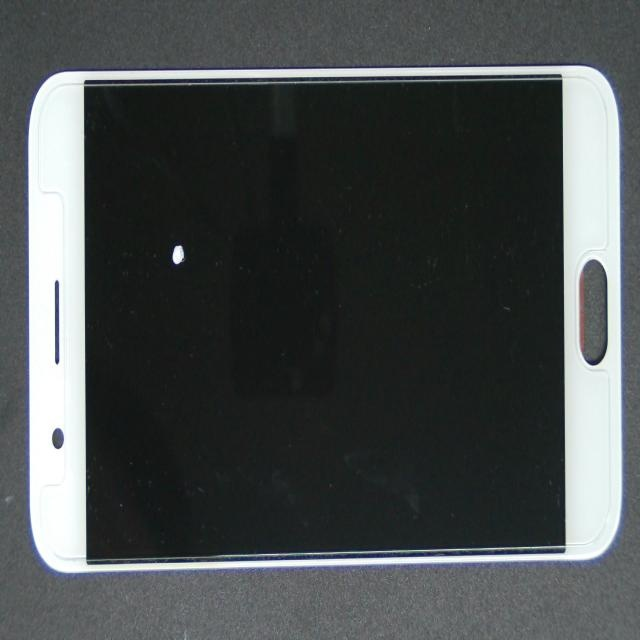stain: (114, 114, 268, 353)
